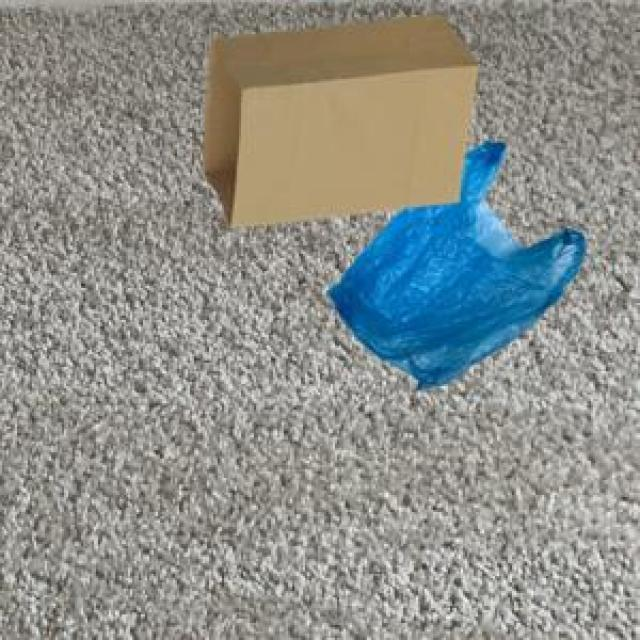paper: (201, 11, 474, 224)
